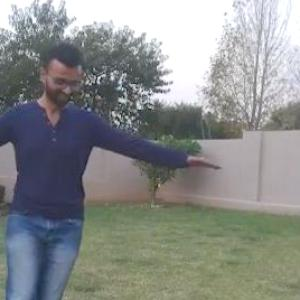land: (0, 64, 165, 299)
